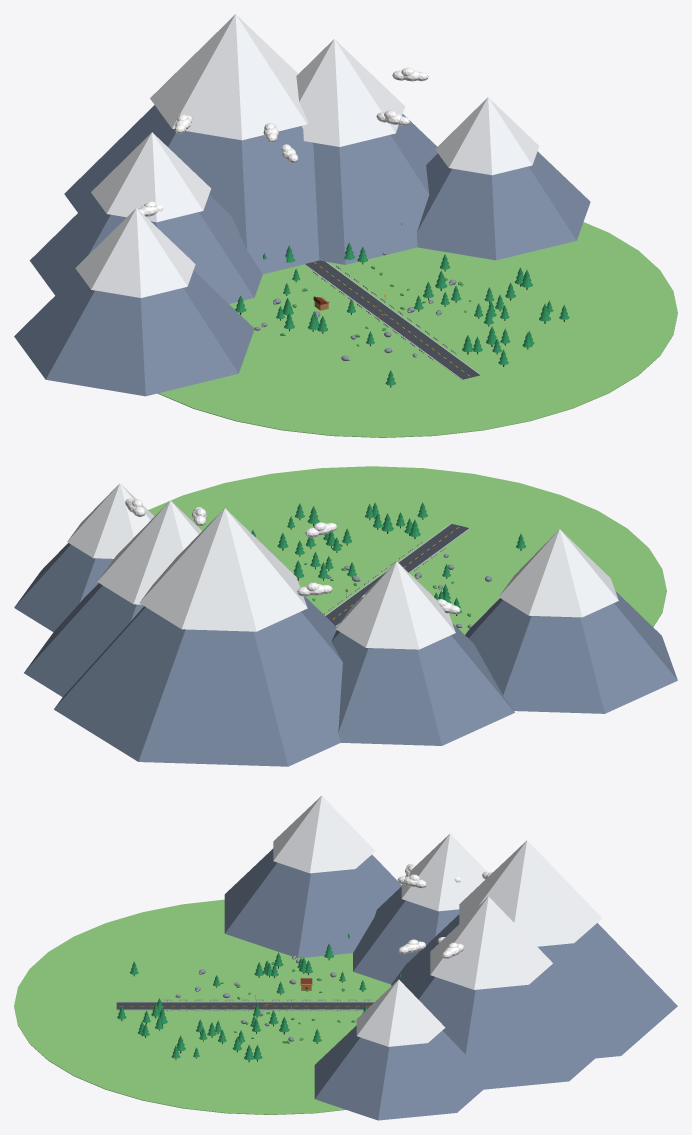
Rendered from Longboarding_World.fbx.
The picture shows the model from 3 angles, top to bottom: view 1: azimuth 30°, elevation 25°; view 2: azimuth 150°, elevation 25°; view 3: azimuth 270°, elevation 25°; orthographic projection. The views are drawn at different scales.
Parts seen in each view (by area): view 1: Ground.001, Mountain.005, Mountain.004, Mountain.002, Mountain.003, Mountain.001, Road.001; view 2: Mountain.005, Ground.001, Mountain.004, Mountain.001, Mountain.002, Mountain.003, Road.001; view 3: Ground.001, Mountain.002, Mountain.005, Mountain.004, Mountain.003, Mountain.001, Road.001.
Part boxes in pixels (bbox=[...]): Ground.001: bbox=[158, 222, 677, 437]; Mountain.005: bbox=[64, 14, 319, 274]; Mountain.004: bbox=[14, 208, 254, 396]; Mountain.002: bbox=[296, 39, 437, 264]; Mountain.003: bbox=[416, 97, 590, 260]; Mountain.001: bbox=[29, 132, 262, 303]; Road.001: bbox=[304, 260, 480, 379]; Mountain.005: bbox=[54, 508, 342, 766]; Ground.001: bbox=[148, 466, 666, 634]; Mountain.004: bbox=[465, 529, 677, 713]; Mountain.001: bbox=[331, 561, 514, 745]; Mountain.002: bbox=[24, 500, 201, 696]; Mountain.003: bbox=[14, 483, 154, 631]; Road.001: bbox=[325, 523, 470, 626]; Ground.001: bbox=[14, 899, 391, 1114]; Mountain.002: bbox=[404, 896, 595, 1089]; Mountain.005: bbox=[391, 840, 677, 1058]; Mountain.004: bbox=[224, 795, 401, 958]; Mountain.003: bbox=[314, 979, 483, 1120]; Mountain.001: bbox=[353, 833, 486, 984]; Road.001: bbox=[116, 1002, 374, 1010].
Size of the model in its own units: 231 by 71.6 by 259.
